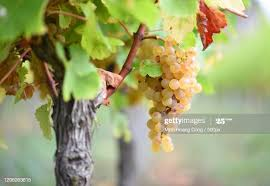grapes: (145, 40, 191, 154)
